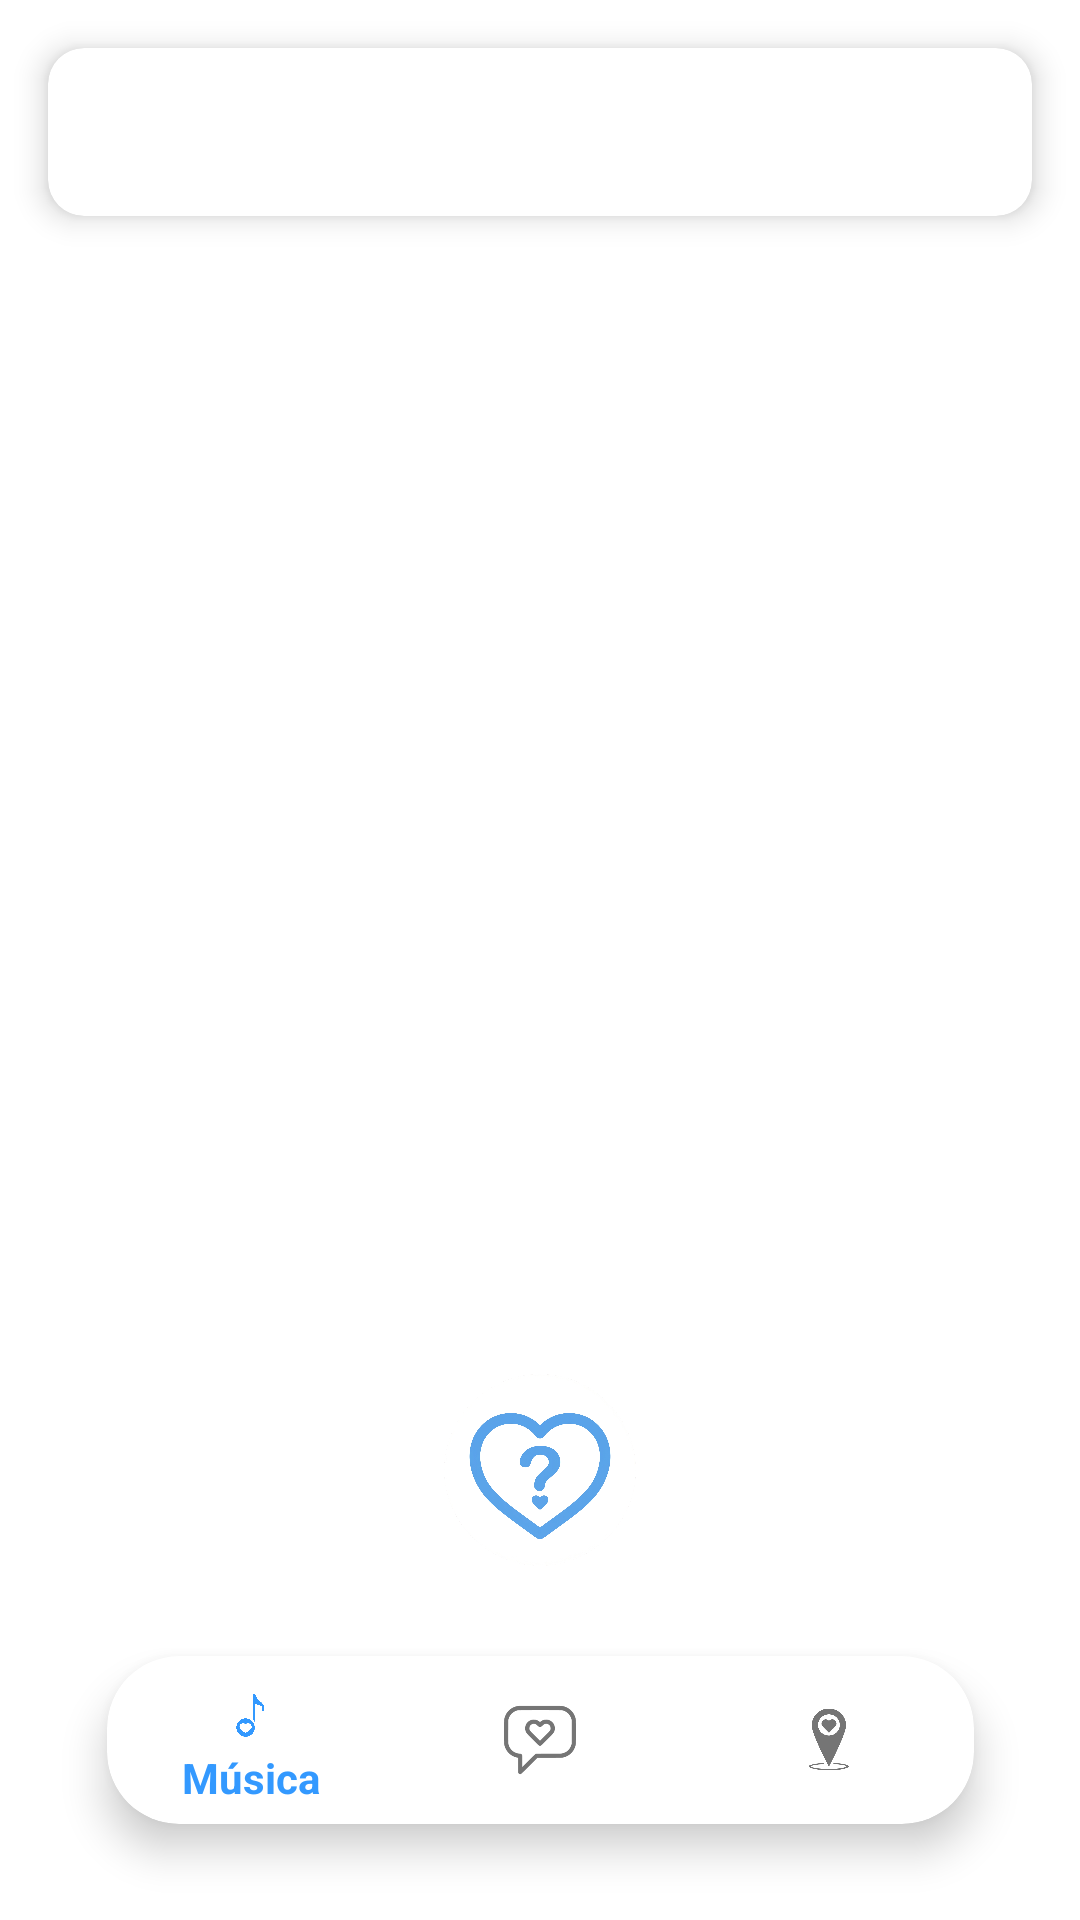

Icons on this 1080x1920 Android screen, each with its box as (x1,y1,x2,y2):
decisao: (469,1413,611,1539)
